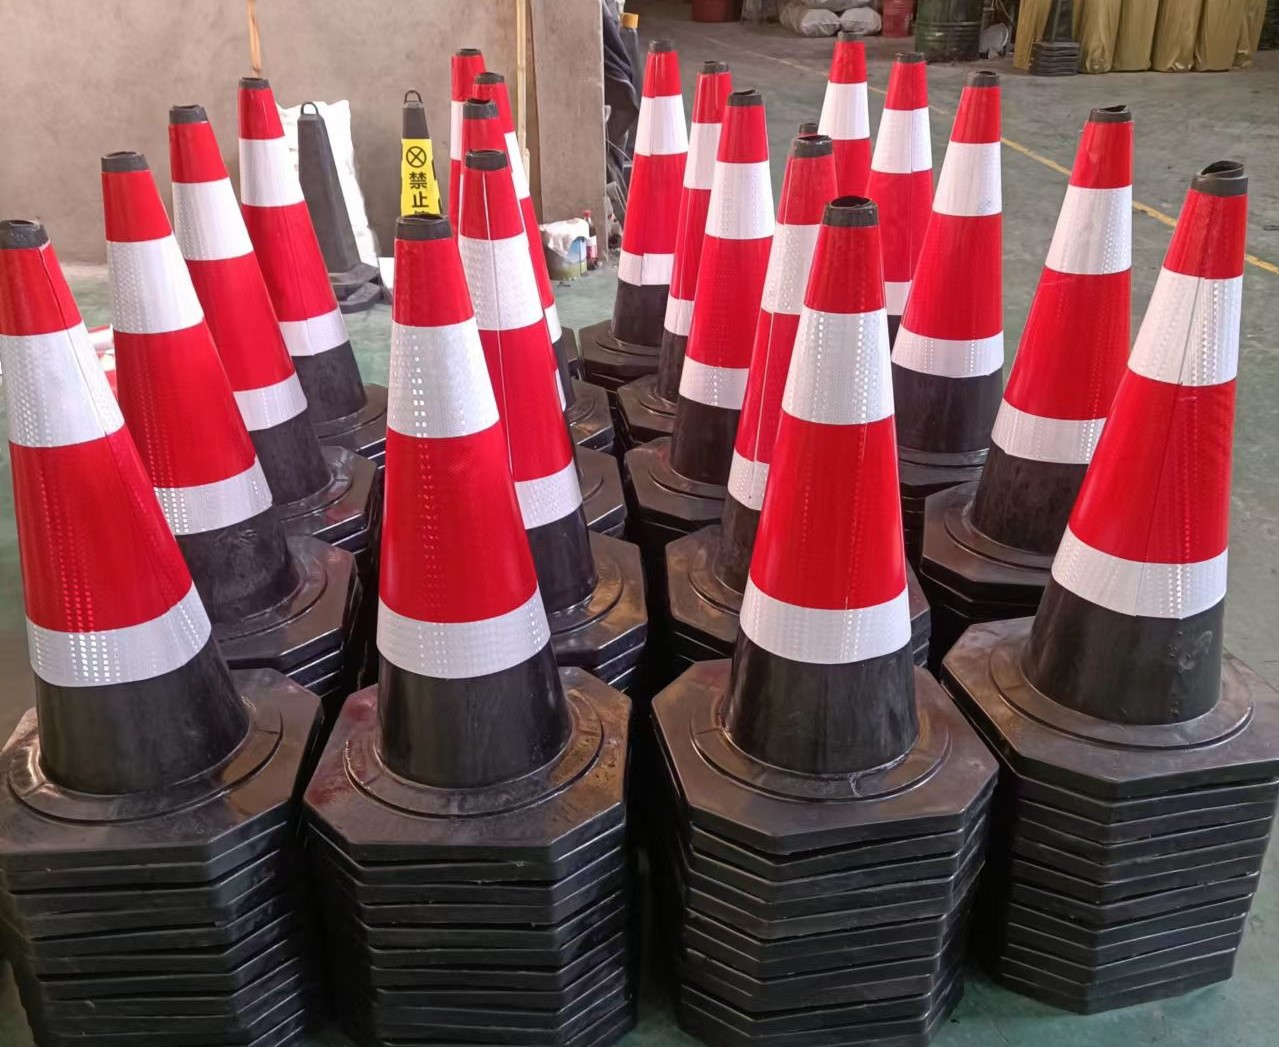traffic_cone: (656, 190, 1007, 837), (306, 205, 637, 858), (1, 203, 309, 855), (975, 158, 1273, 799), (62, 126, 365, 653)
